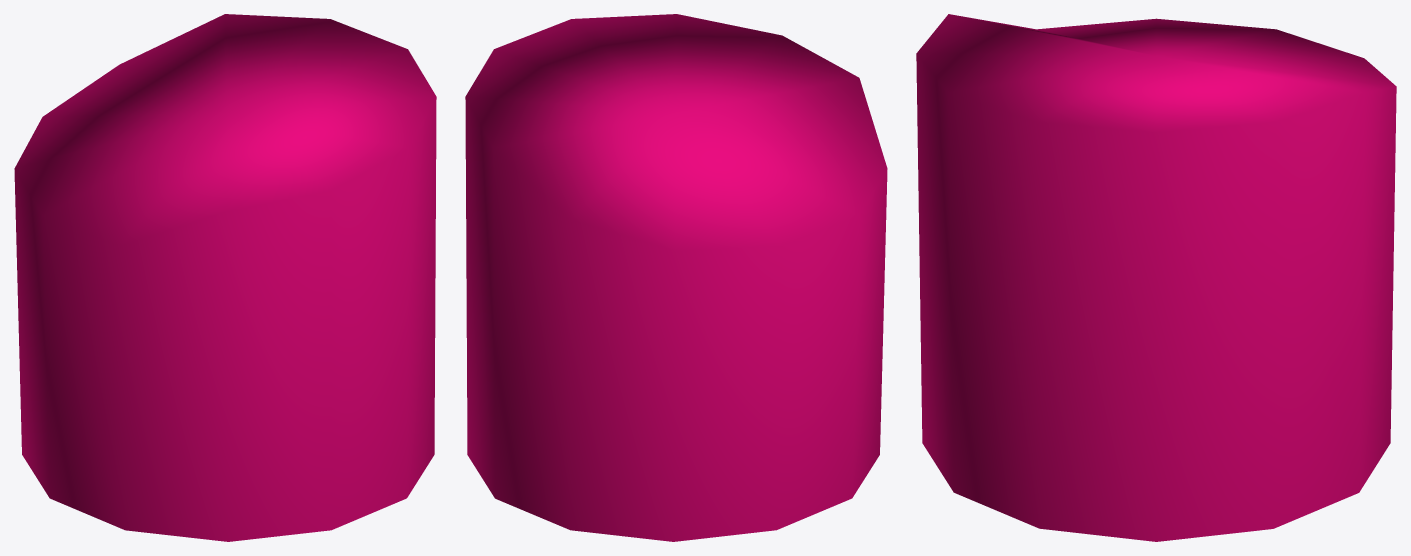
The model's file is Candle_03_Short.fbx.
3 views of the same model, side by side, from view 1: azimuth 30°, elevation 25°; view 2: azimuth 150°, elevation 25°; view 3: azimuth 270°, elevation 25° (orthographic). The views are drawn at different scales.
Visible parts, largest first — view 1: Candle_03_Short; view 2: Candle_03_Short; view 3: Candle_03_Short.
Part boxes in pixels (left/top/right/bottom): Candle_03_Short: left=14, top=14, right=436, bottom=541; Candle_03_Short: left=465, top=14, right=887, bottom=541; Candle_03_Short: left=916, top=14, right=1396, bottom=541.
Size of the model in its own units: 14.6 by 13.83 by 14.68.
